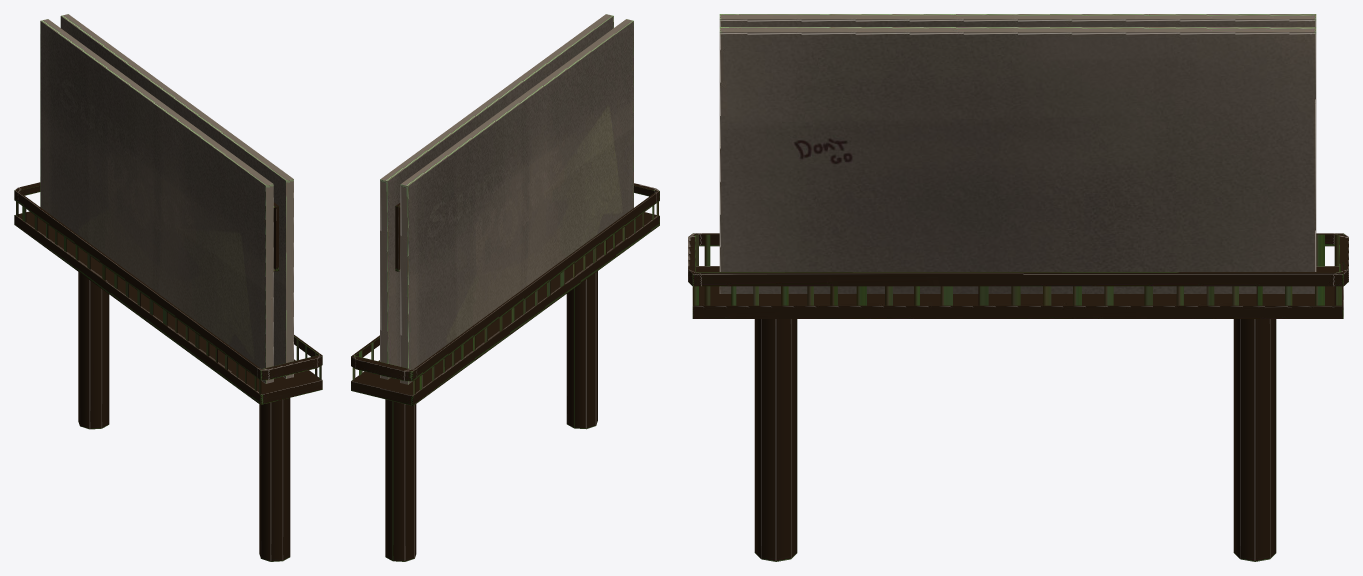
File: BIllboard.FBX
3 views of the same model, side by side, from view 1: azimuth 30°, elevation 25°; view 2: azimuth 150°, elevation 25°; view 3: azimuth 270°, elevation 25° (orthographic). The views are drawn at different scales.
Parts seen in each view (by area): view 1: Billboard; view 2: Billboard; view 3: Billboard.
Boxes of the visible parts, x1,y1,x2,y2 form: Billboard: (14,14,322,561); Billboard: (351,14,659,561); Billboard: (688,14,1348,561).
Size of the model in its own units: 81.84 by 495 by 571.
